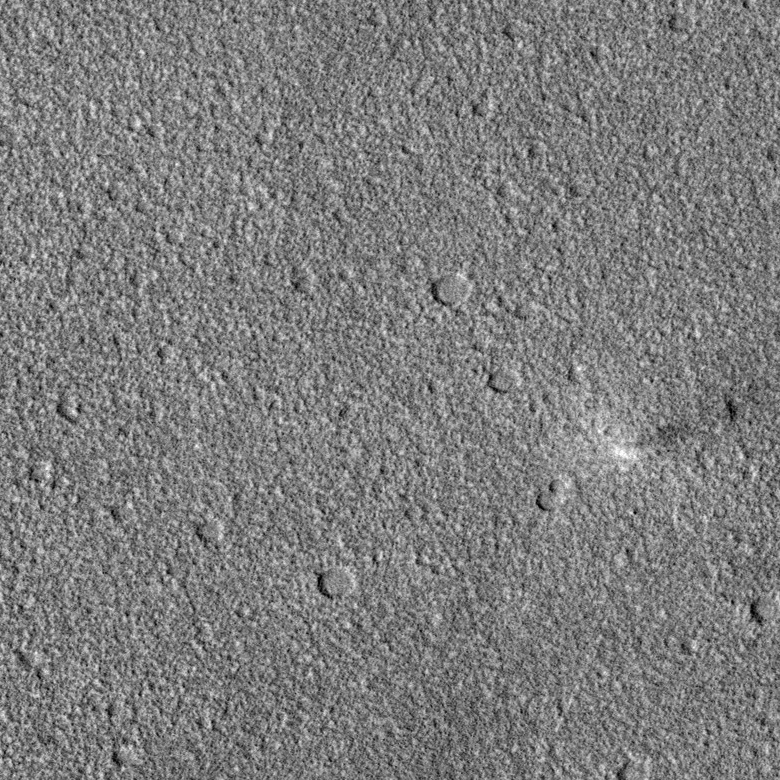dust_devil: (599, 416, 719, 472)
